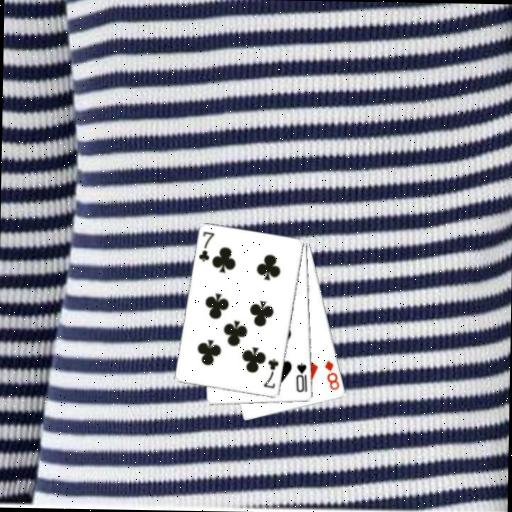10S: (293, 360, 310, 394)
7C: (260, 356, 281, 390), (195, 229, 216, 263)
8D: (321, 358, 342, 392)
